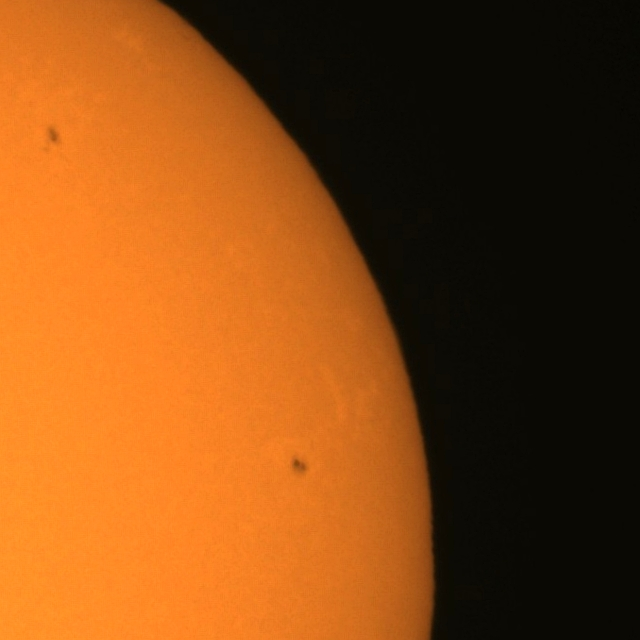sunspot: (289, 455, 310, 477), (47, 124, 61, 147)
